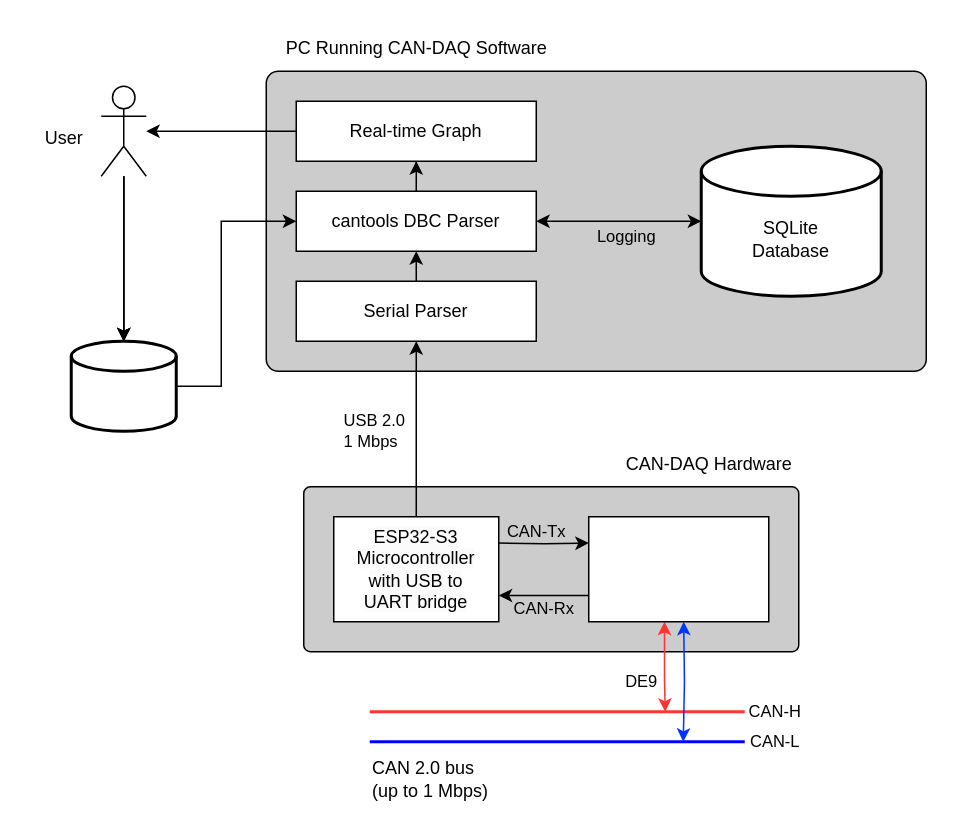
Some shapes in this 953 by 834 pixel diagram are drawn without their labels. Here are the shapes that lost their labels. From the top down, the centre of each, then its label:
At (x=123, y=385): "DBC file".
At (x=678, y=568): "MCP2561 CAN Transceiver".
